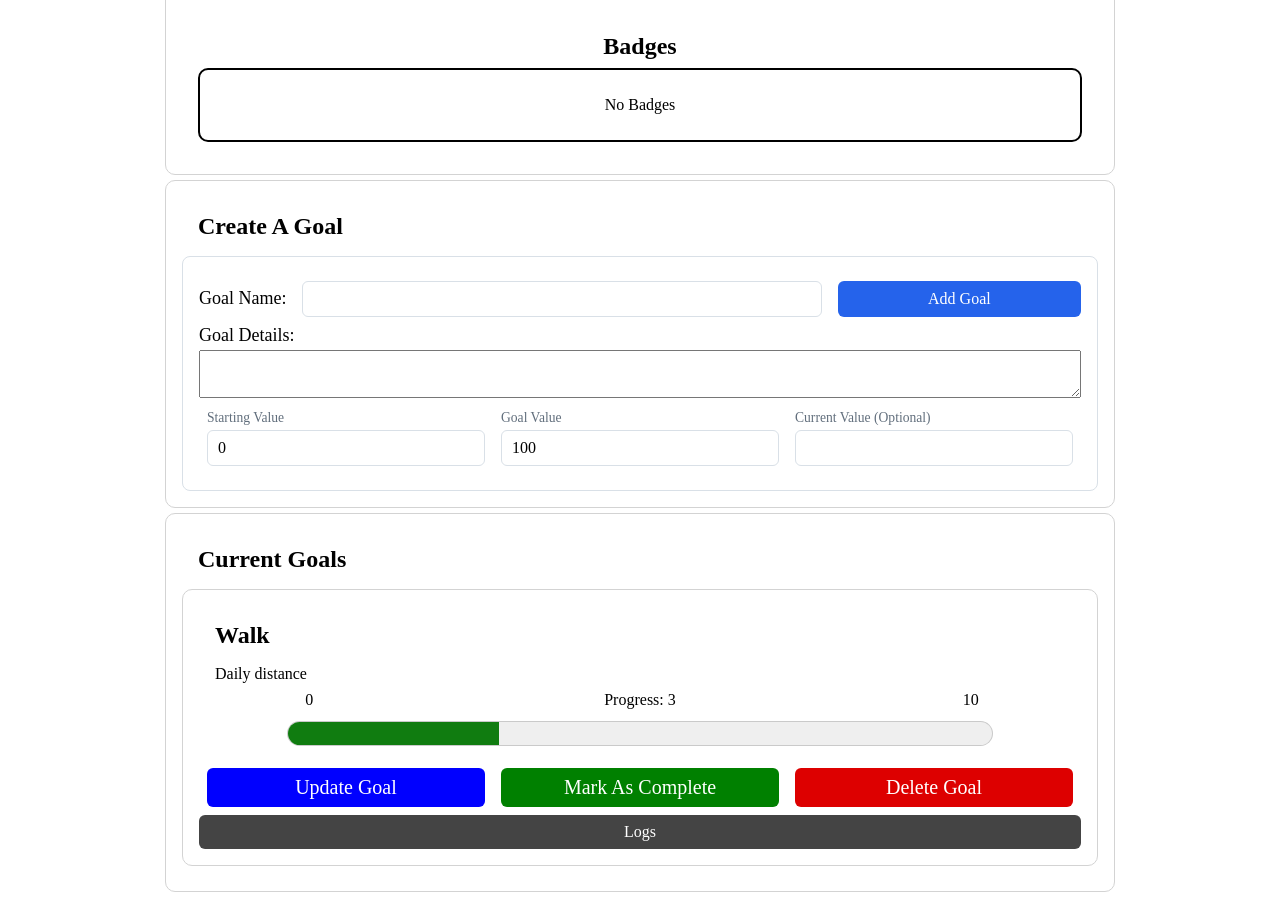
Scenario: goal functionality › adds progress through the log form
The image size is (1280, 900).
(page scrolled)
Click the button "Update Goal": (346, 787) [207,768,485,806]
(page scrolled)
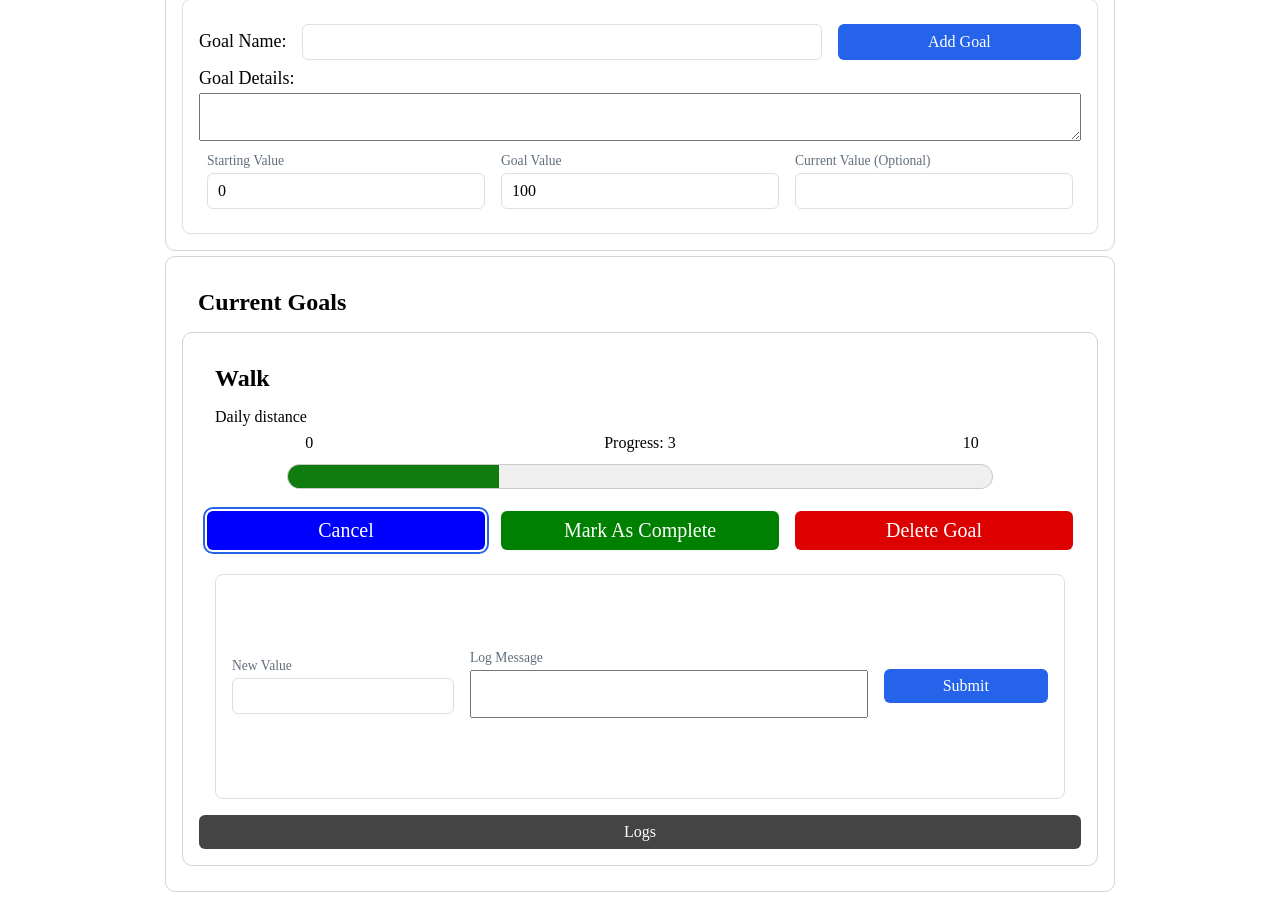
In the 4th number field: (343, 696) [232,678,454,714], type "6"
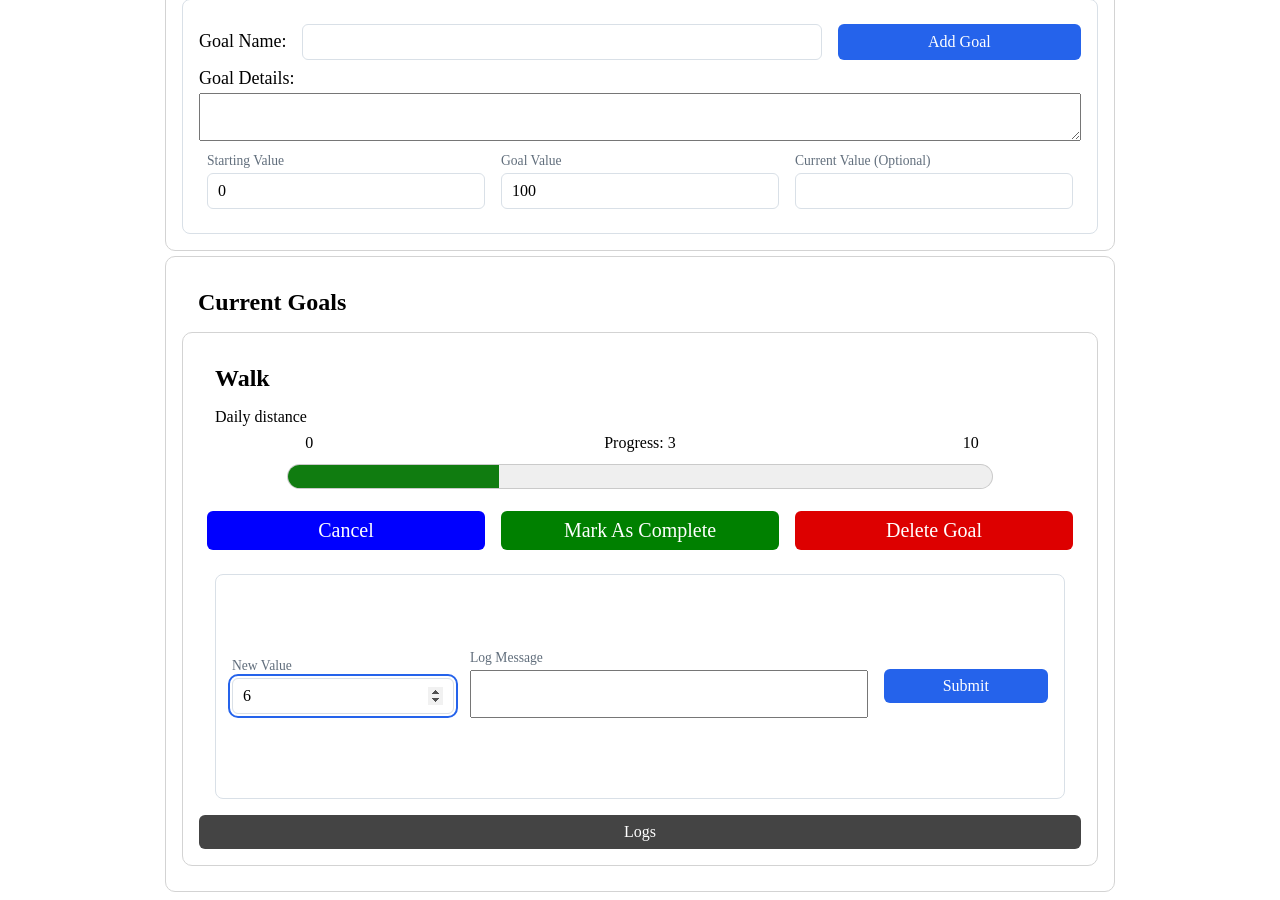
In the 2nd text box: (669, 694) [470,670,868,718], type "Long walk"
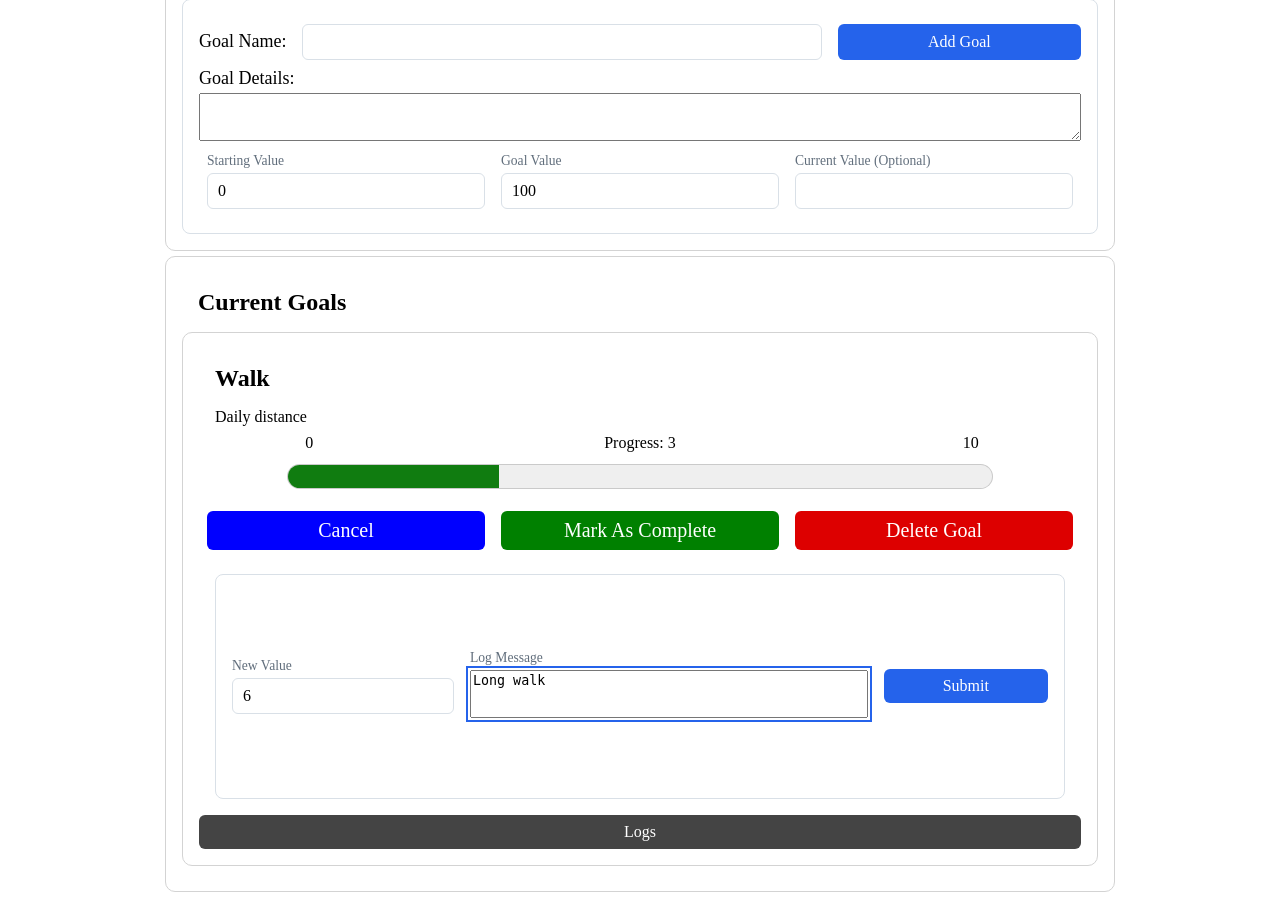
Click the button "Submit": (966, 686) [884,669,1048,703]
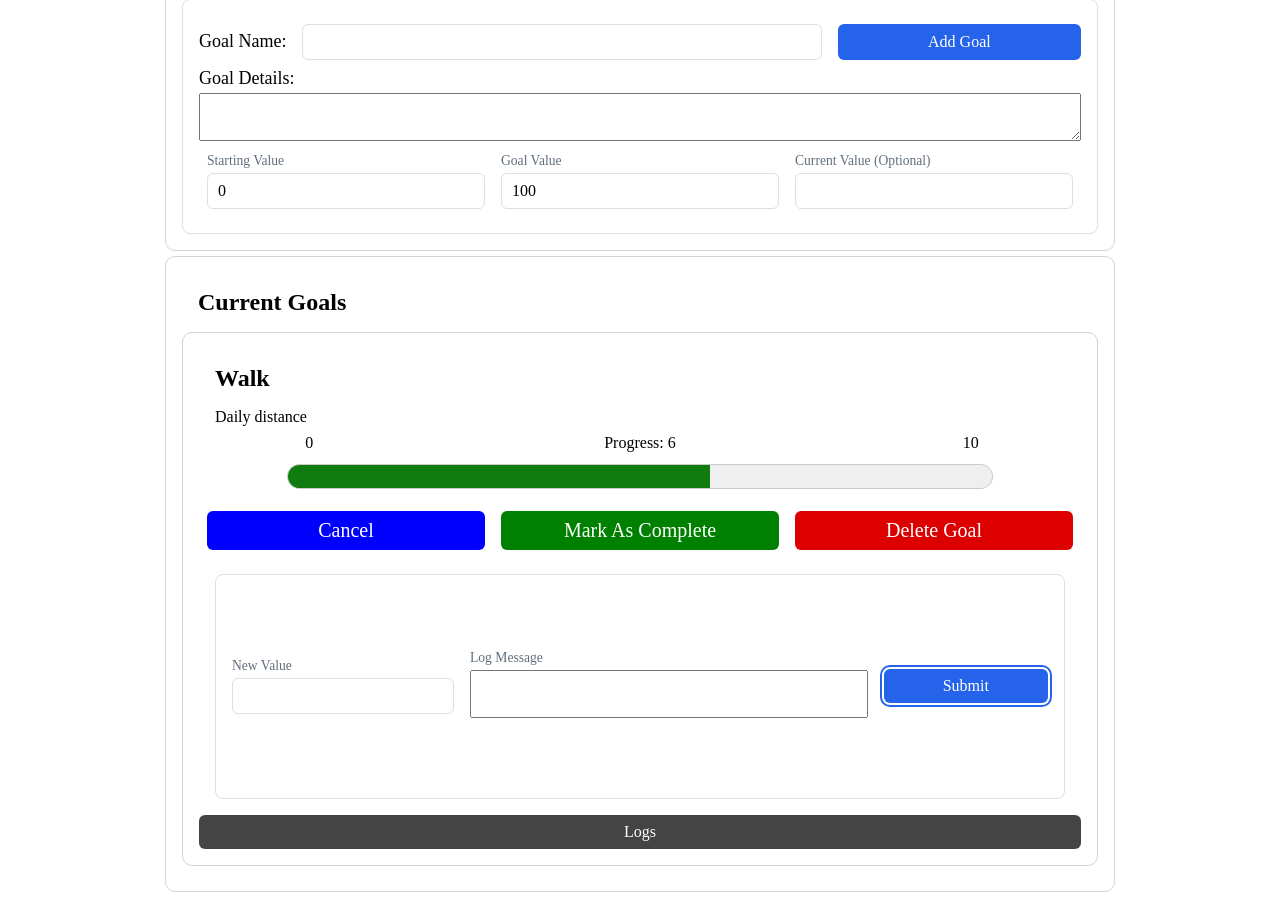
Expected: the text "Progress: 6" is shown, [604,434,676,451]
Click the button "Logs": (640, 832) [199,814,1081,848]
(page scrolled)
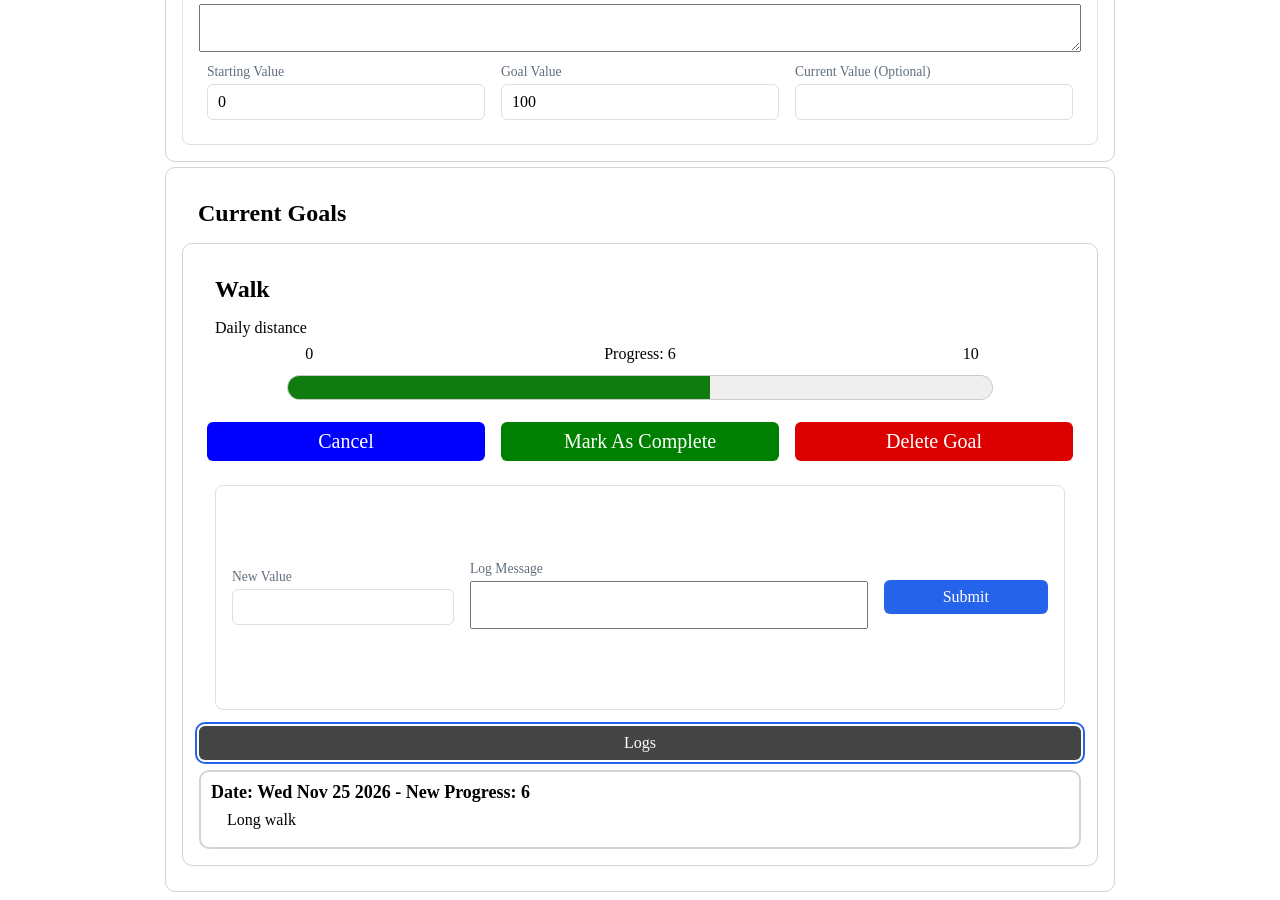
Expected: the text "Long walk" is shown, [227,810,296,828]
